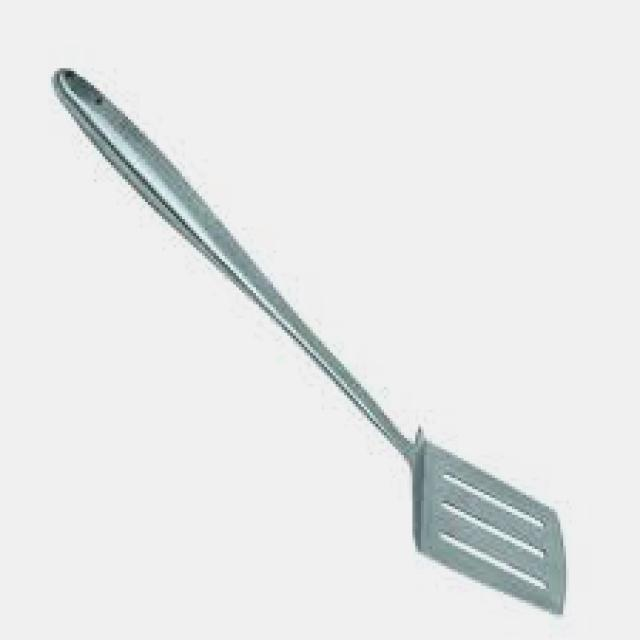Spatula: (42, 64, 590, 610)
